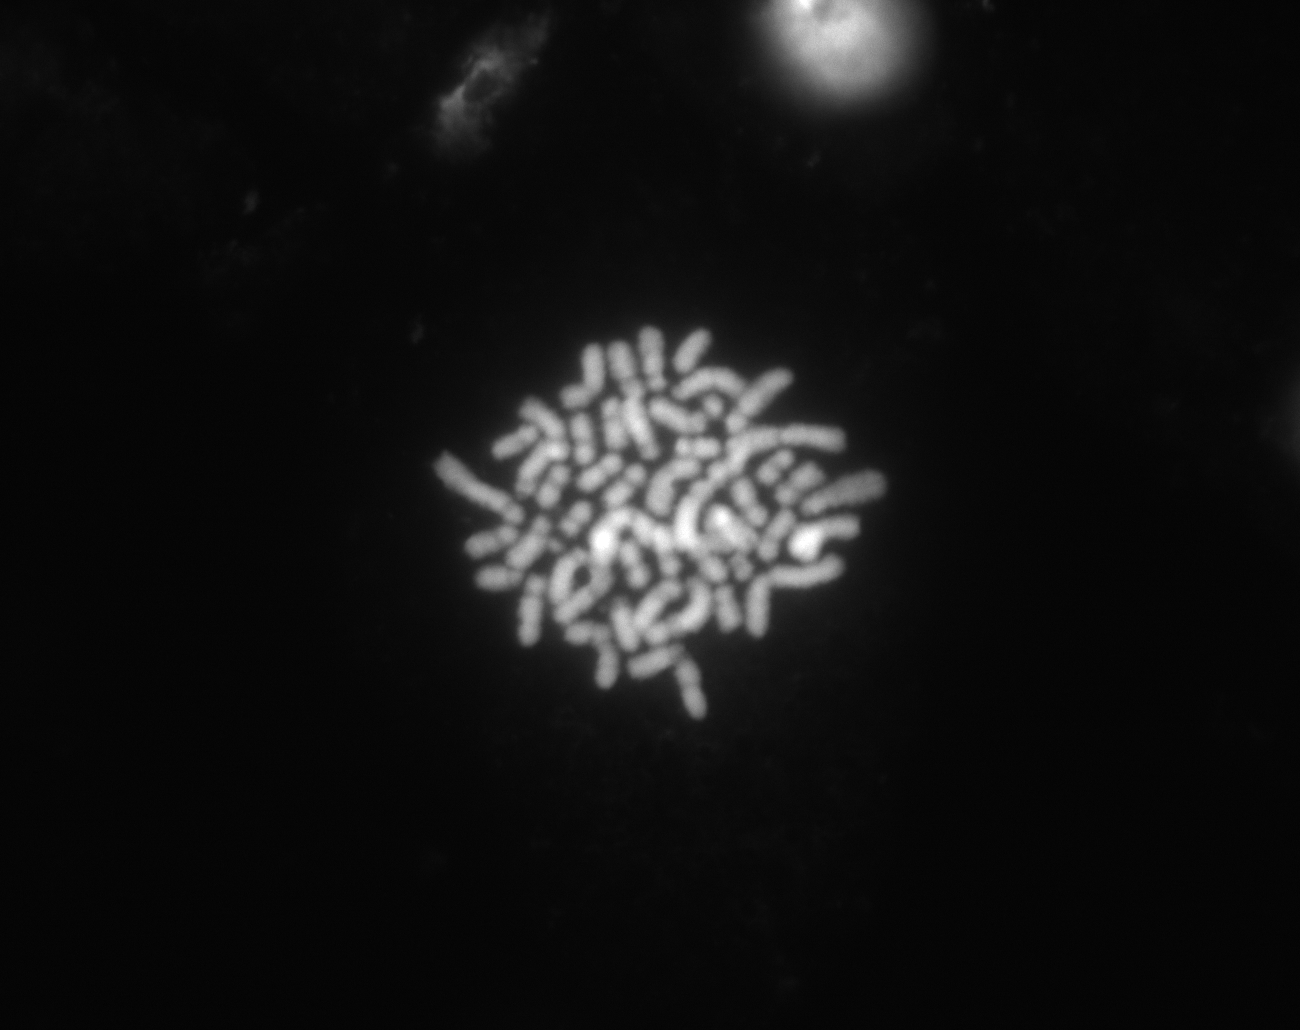Chromosomes: (376, 276, 924, 739)
Others: (711, 1, 966, 134)
